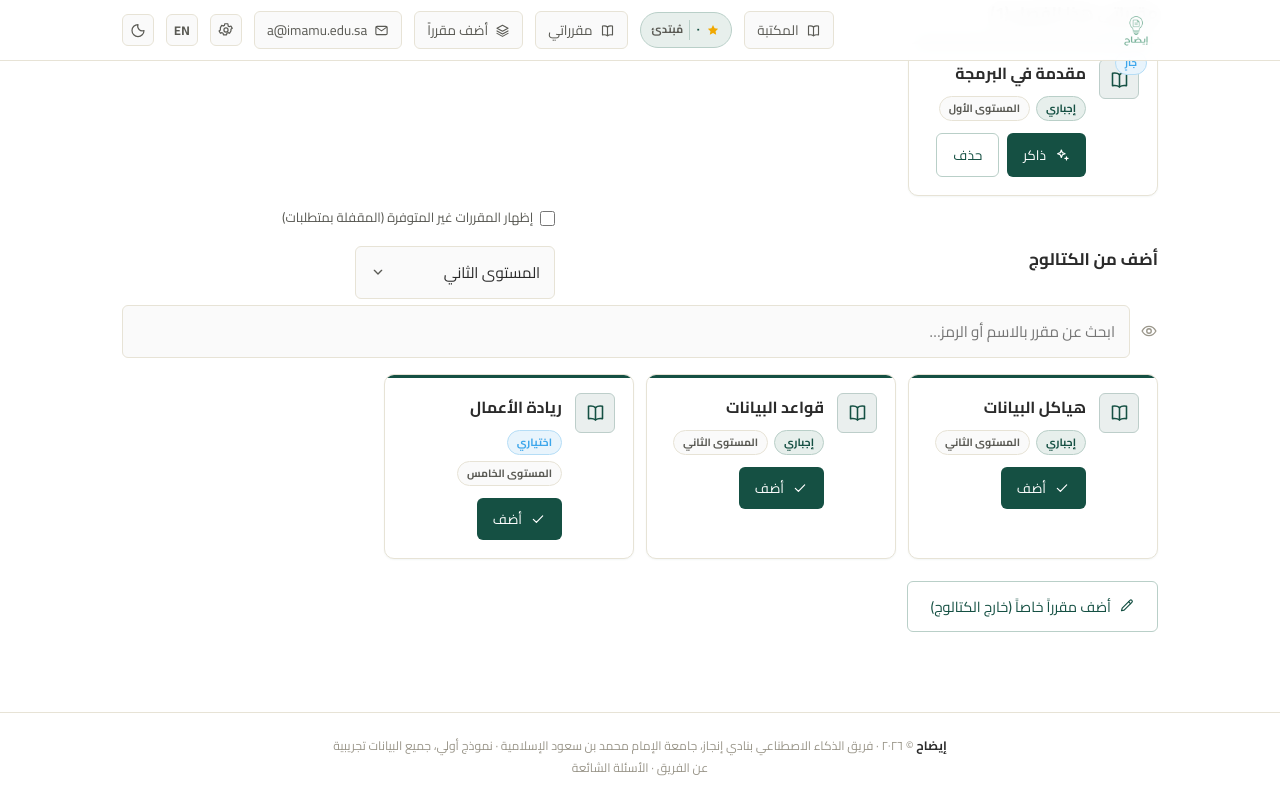
Test: إضافة مقرر خاص: بلا جامعة (خاص)، وتُظهر استبيان المساهمة
The image size is (1280, 800).
(page scrolled)
Click the button "أضف مقرراً خاصاً (خارج الكتالوج)" at (1033, 606), box [907,581,1158,632]
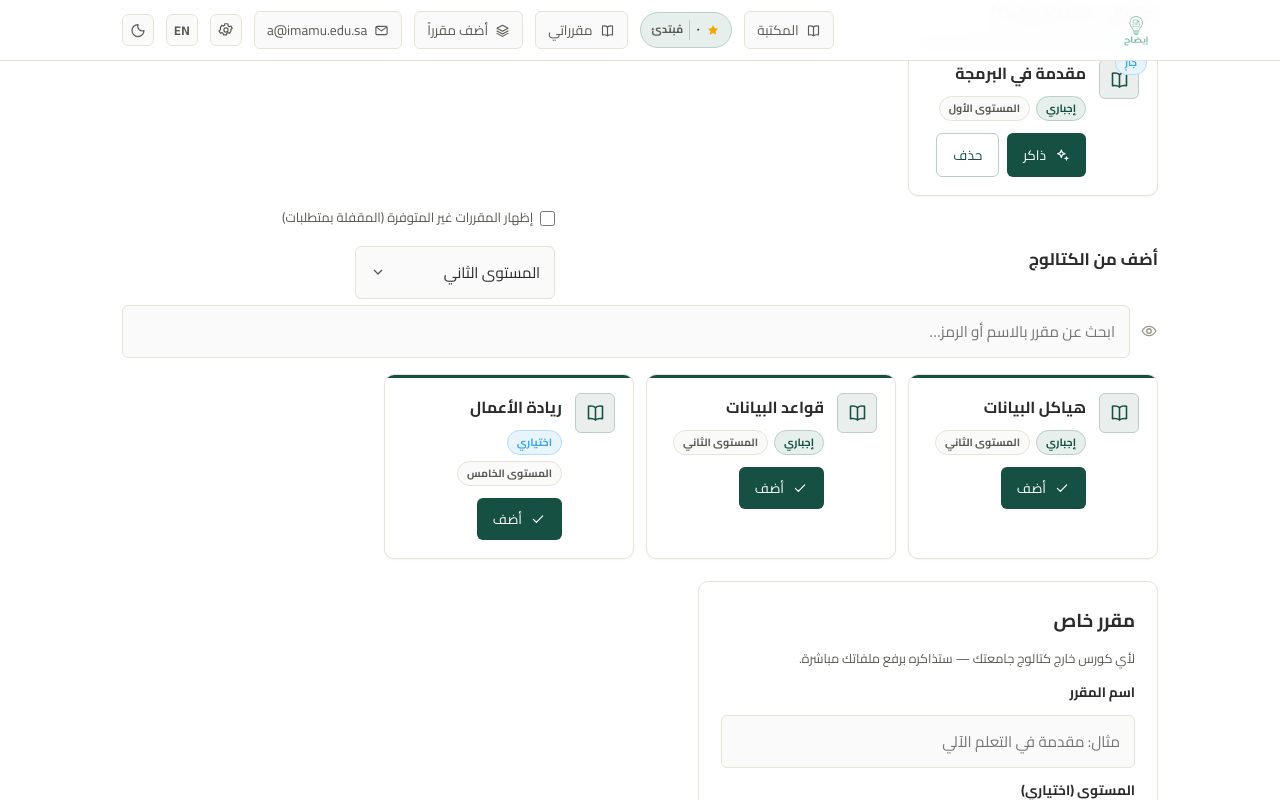
Type "تعلم آلي" into the field labelled "اسم المقرر" at (928, 741), box [721,715,1135,768]
(page scrolled)
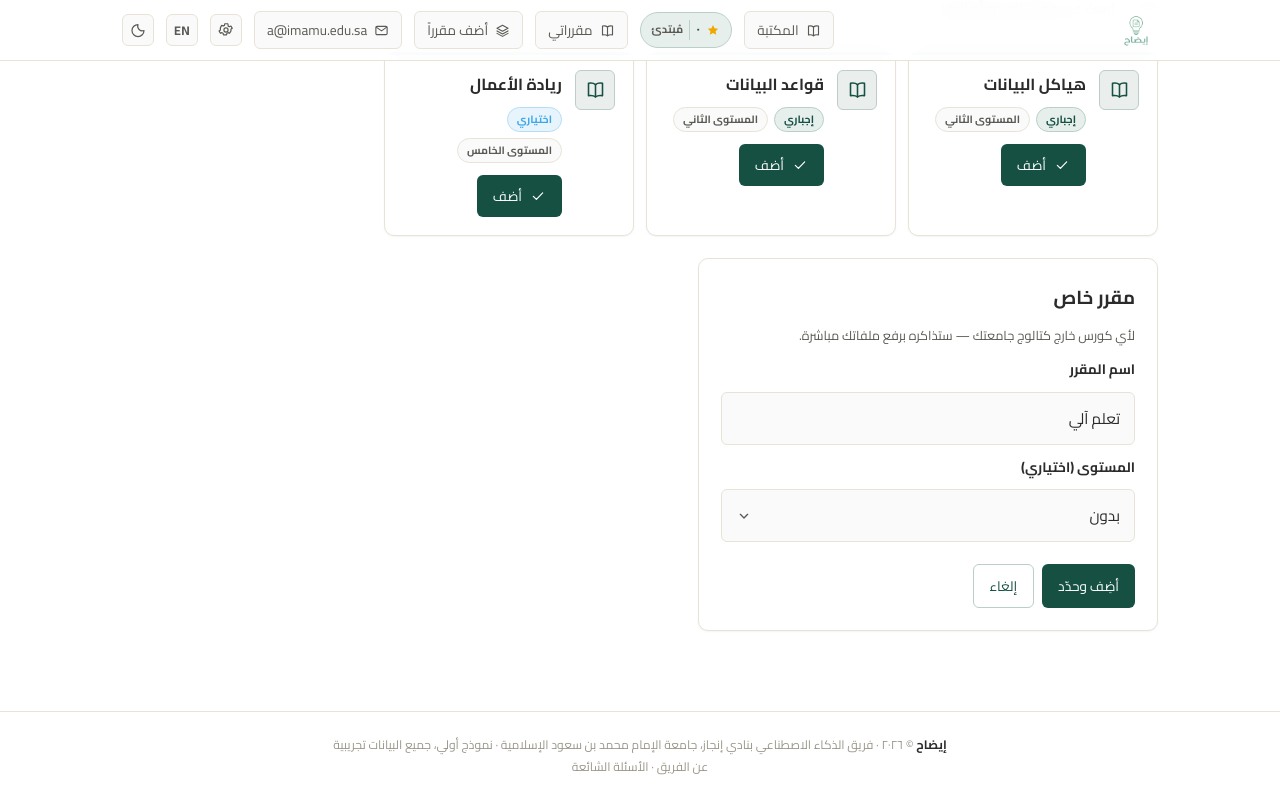
Click the button "أضِف وحدّد" at (1089, 586), box [1042,564,1135,608]
(page scrolled)
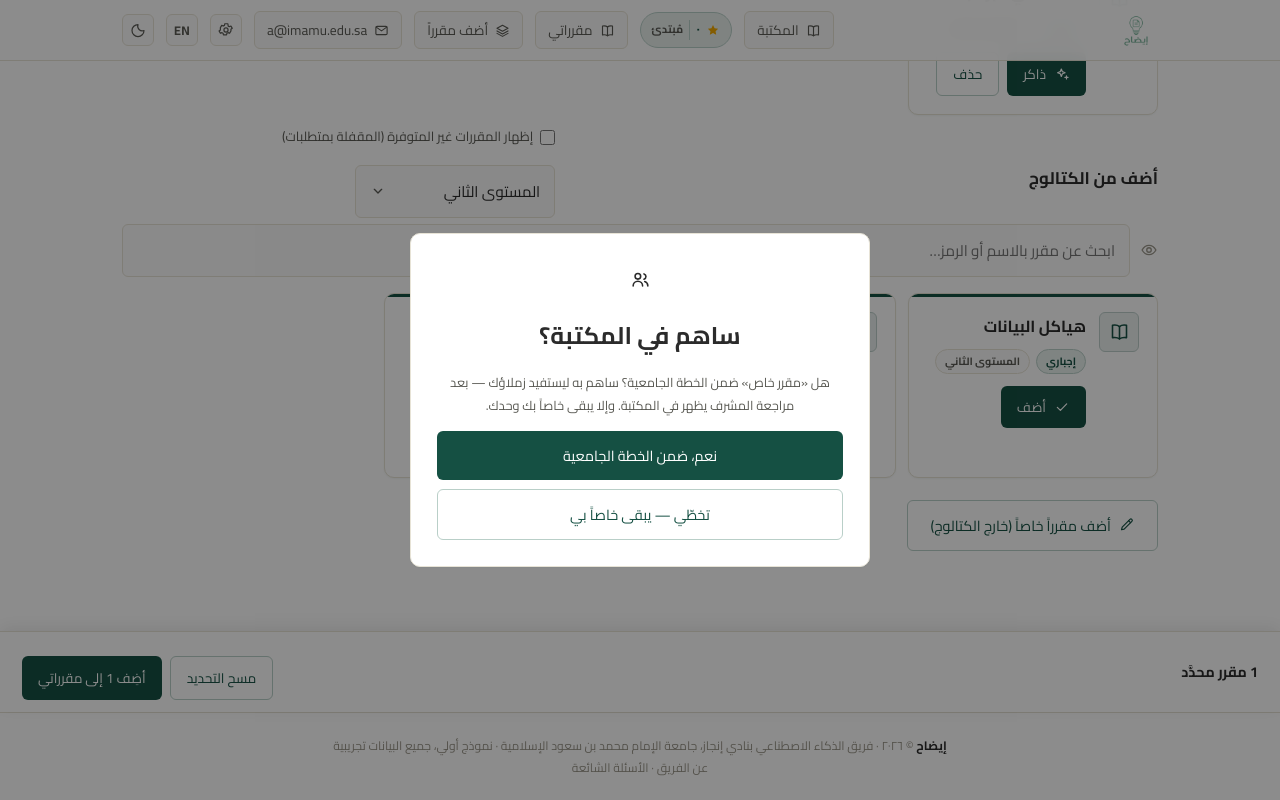
Check: the heading "ساهم في المكتبة؟" is shown, box [539,313,741,358]
Check: the button "أضِف 1 إلى مقرراتي" is shown, box [22,656,162,700]
